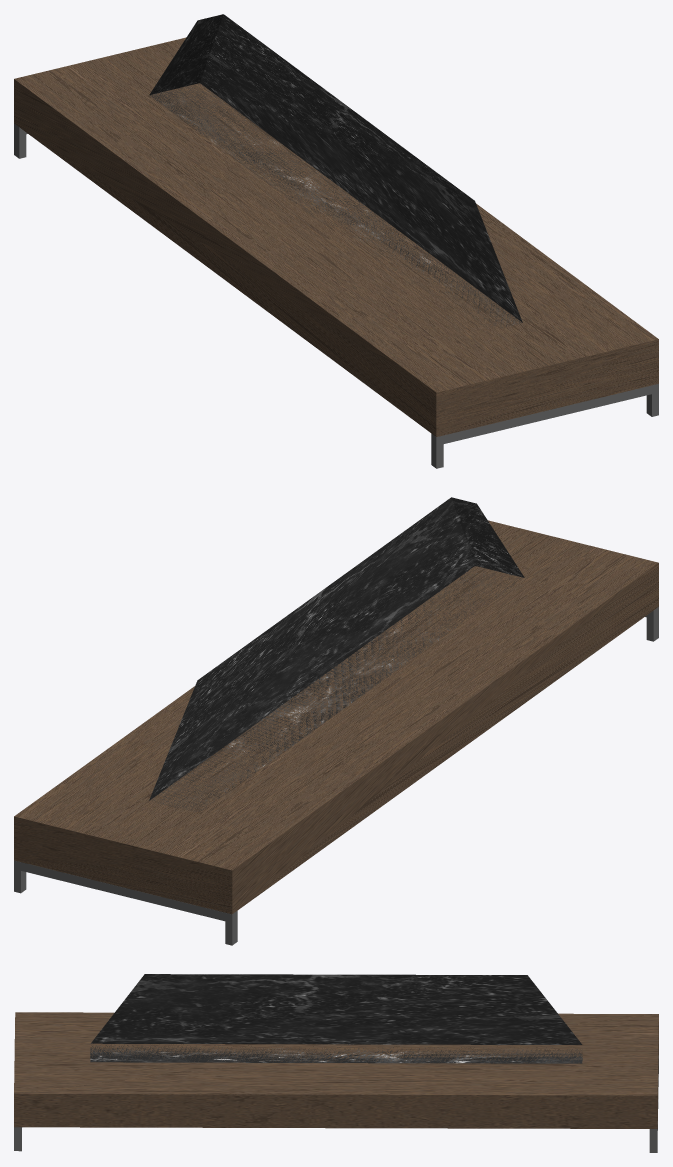
The model's file is seat-wall-small.gltf.
3 renders of one model, top to bottom at view 1: azimuth 30°, elevation 25°; view 2: azimuth 150°, elevation 25°; view 3: azimuth 270°, elevation 25°, orthographic. The views are drawn at different scales.
Visible parts, largest first — view 1: Cube.011, Cube.013; view 2: Cube.011, Cube.012; view 3: Cube.011.
Boxes of the visible parts, box(x1,y1,x2,y2) form: Cube.011: box(14, 14, 658, 436); Cube.013: box(431, 384, 658, 468); Cube.011: box(14, 497, 658, 914); Cube.012: box(14, 860, 237, 945); Cube.011: box(14, 974, 658, 1128).
Bounding box in the file's own units: 0.9245 × 0.6821 × 3.03.
3 materials, 2 textured.
